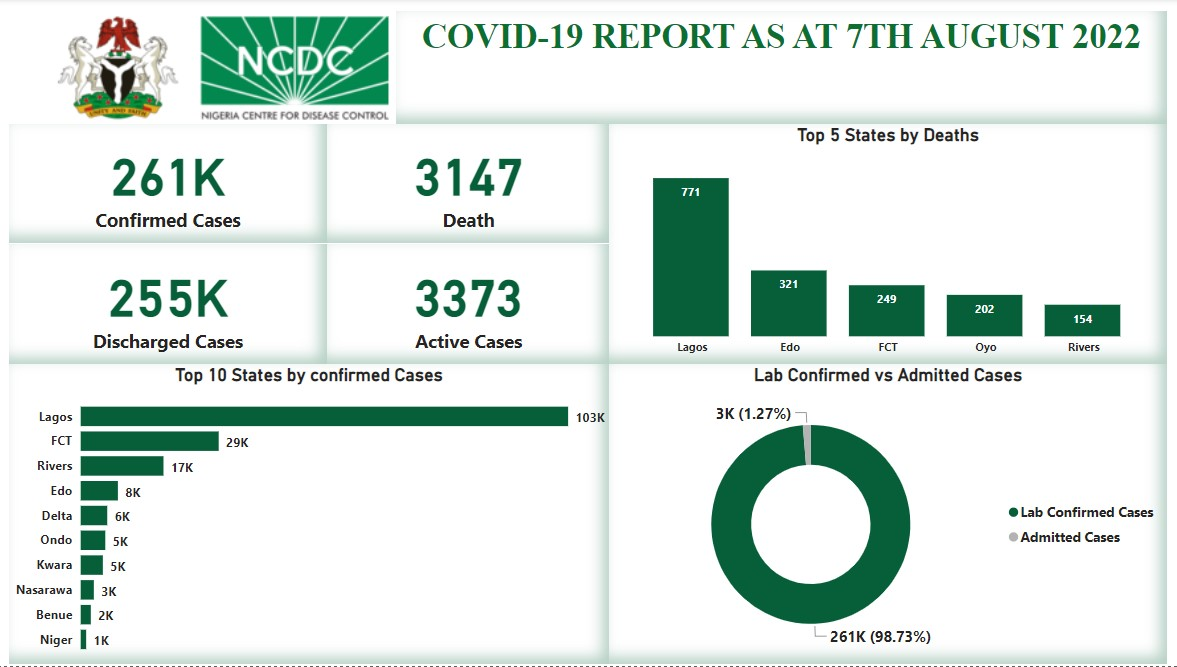

What the dashboard file says about the page in this screenshot:
{"tool":"powerbi","page":{"name":"Page 1","canvas":[1280,720],"ordinal":0},"visuals":[{"type":"textbox","box":[433.6,14.6,831.6,121.3],"z":0},{"type":"image","box":[16.8,14.7,462.4,121.9],"z":1000},{"type":"card","fields":{"Values":["Sum(key report.Confirmed Cases)"]},"box":[16.8,136.6,342.6,128.2],"z":2000},{"type":"card","fields":{"Values":["Sum(key report.Death)"]},"box":[359.4,136.6,304.8,128.2],"z":3000},{"type":"card","fields":{"Values":["Sum(key report.Discharged Cases)"]},"box":[16.8,264.8,342.6,130.3],"z":4000},{"type":"card","fields":{"Values":["Sum(key report.Active Cases)"]},"box":[359.4,264.8,304.8,130.3],"z":5000},{"type":"clusteredBarChart","title":"Top 10 States by confirmed Cases","fields":{"Category":["complete report.States Affected"],"Y":["Sum(complete report.No. of Cases (Lab Confirmed))"]},"box":[16.8,395.1,647.4,323.7],"z":6000},{"type":"clusteredColumnChart","title":"Top 5 States by Deaths","fields":{"Category":["complete report.States Affected"],"Y":["Sum(complete report.No. of Deaths)"]},"box":[663.4,135.9,601.9,258.9],"z":7000},{"type":"donutChart","title":"Lab Confirmed vs Admitted Cases","fields":{"Y":["Sum(complete report.No. of Cases (Lab Confirmed))","Sum(complete report.No. of Cases (on admission))"]},"box":[663.4,394.8,601.9,323.6],"z":8000}]}

Visuals, with their boxes in screenshot pixels (x1, y1, x2, y2), scaled from the page's 1280x720 canvas onto the 1177x667 screenshot:
textbox: bbox=(399, 14, 1163, 126)
image: bbox=(15, 14, 441, 127)
card - Sum(key report.Confirmed Cases): bbox=(15, 127, 330, 245)
card - Sum(key report.Death): bbox=(330, 127, 611, 245)
card - Sum(key report.Discharged Cases): bbox=(15, 245, 330, 366)
card - Sum(key report.Active Cases): bbox=(330, 245, 611, 366)
"Top 10 States by confirmed Cases" clusteredBarChart: bbox=(15, 366, 611, 666)
"Top 5 States by Deaths" clusteredColumnChart: bbox=(610, 126, 1163, 366)
"Lab Confirmed vs Admitted Cases" donutChart: bbox=(610, 366, 1163, 666)
